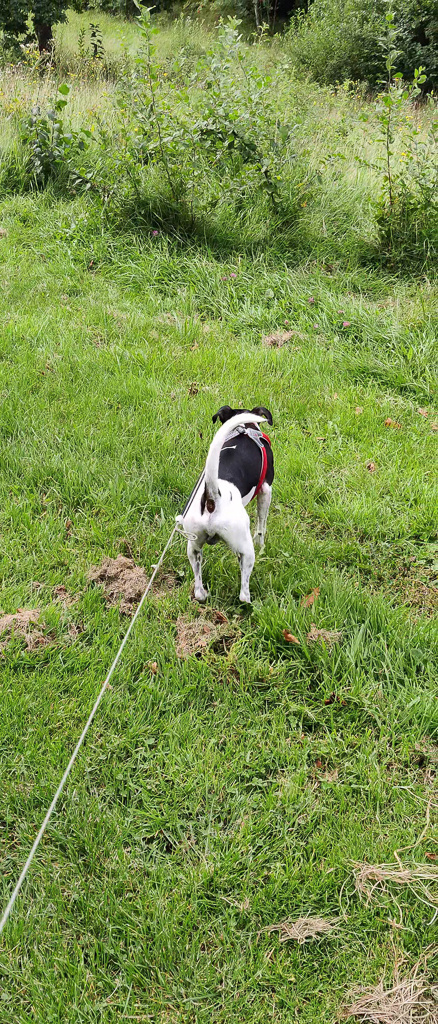Dog: (165, 383, 289, 630)
